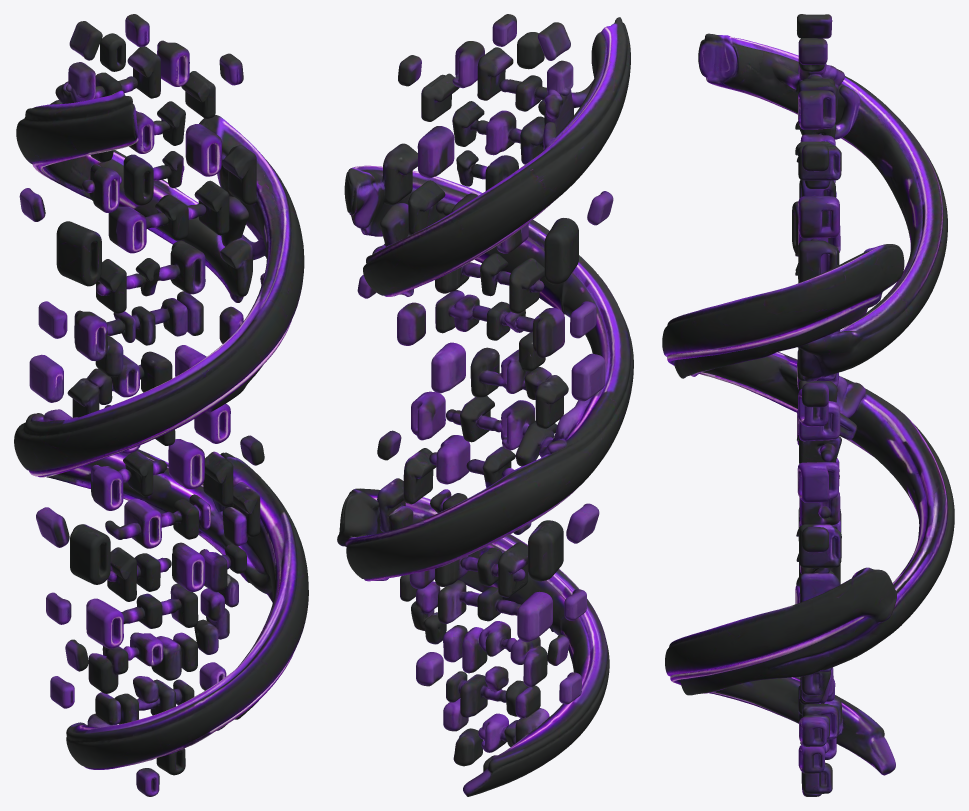
File: system.glb
The picture shows the model from 3 angles, left to right: view 1: azimuth 30°, elevation 25°; view 2: azimuth 150°, elevation 25°; view 3: azimuth 270°, elevation 25°; orthographic projection. The views are drawn at different scales.
Bounding box in the file's own units: 0.6548 × 1.9 × 0.6697.
1 material, 1 textured.
